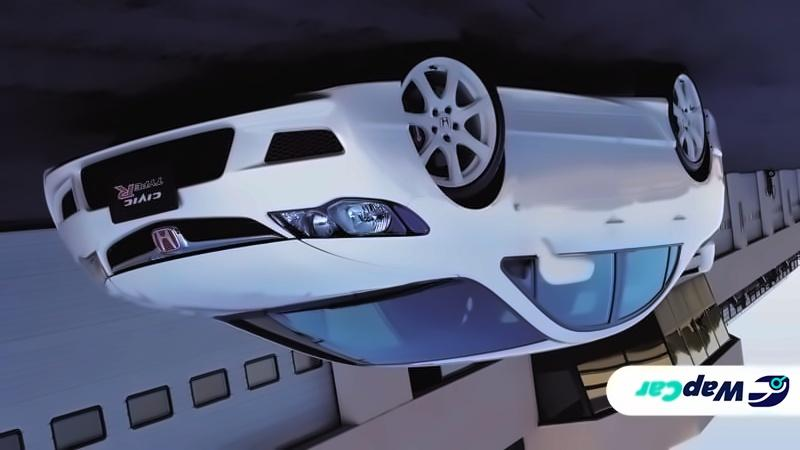Car hood: (99, 235, 460, 322)
Driver-s door - -F-R-: (512, 103, 626, 339)
Fender - -F-R-: (430, 88, 513, 282)
Fender - -R-R-: (665, 89, 719, 218)
Front bumper: (39, 78, 435, 224)
Headlight - -L-: (74, 249, 119, 291)
Headlight - -R-: (264, 191, 433, 242)
Passenger-s door - -R-R-: (622, 103, 690, 338)
Rear bumper: (700, 98, 730, 176)
Side bumper - -R-: (488, 79, 682, 149)
Side mirror - -R-: (529, 226, 596, 289)
